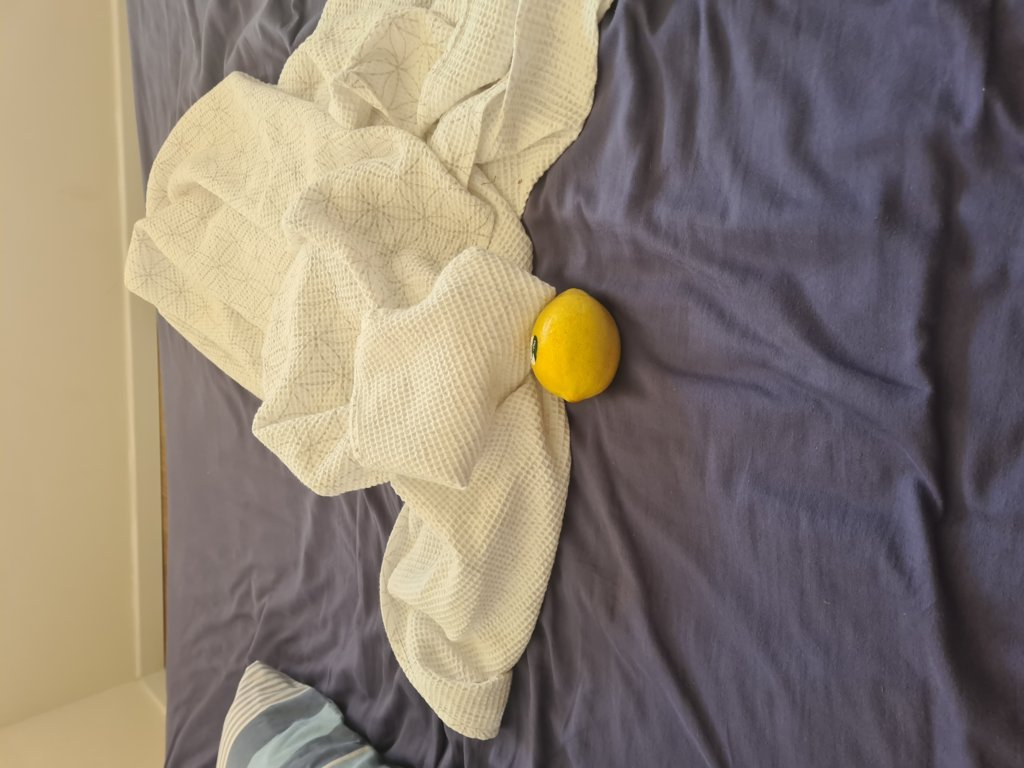lemon: (532, 285, 618, 404)
